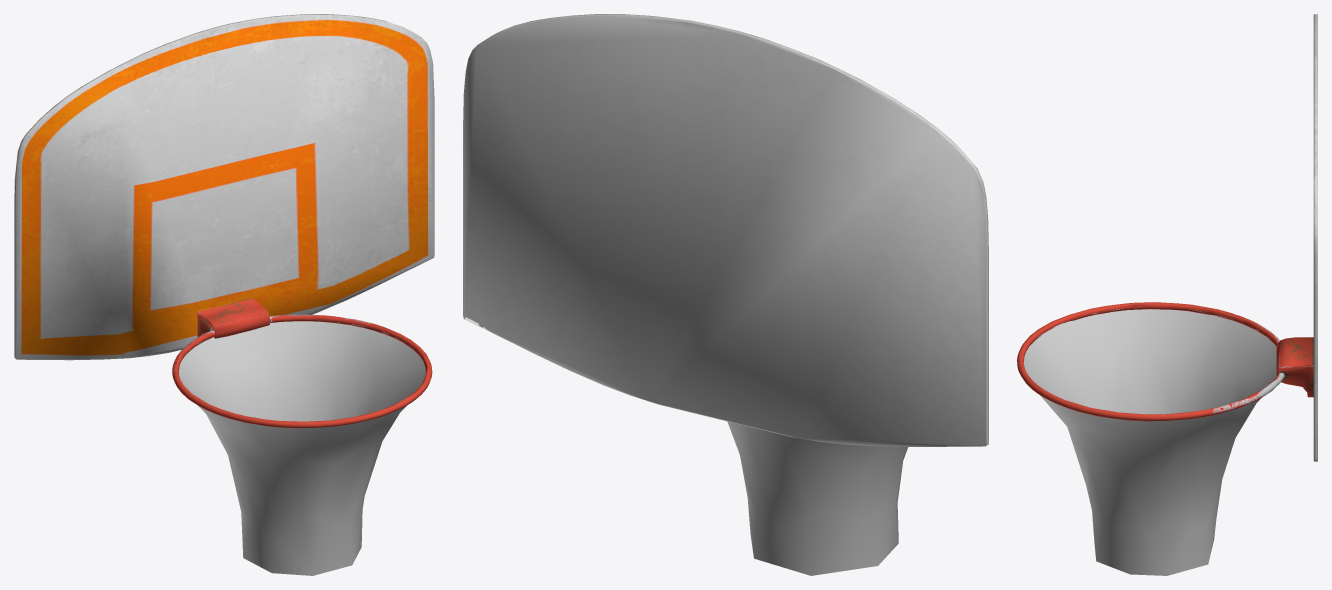
File: BBalHoop_new.fbx
3 views of the same model, side by side, from view 1: azimuth 30°, elevation 25°; view 2: azimuth 150°, elevation 25°; view 3: azimuth 270°, elevation 25° (orthographic). The views are drawn at different scales.
Visible parts, largest first — view 1: board, net; view 2: board, net; view 3: net, board.
Boxes of the visible parts, bbox=[...] form: board: bbox=[14, 14, 434, 428]; net: bbox=[178, 321, 425, 575]; board: bbox=[463, 14, 988, 446]; net: bbox=[727, 421, 908, 575]; net: bbox=[1023, 309, 1276, 575]; board: bbox=[1017, 14, 1317, 461].
Bounding box in the file's own units: 206 × 220 × 123.
